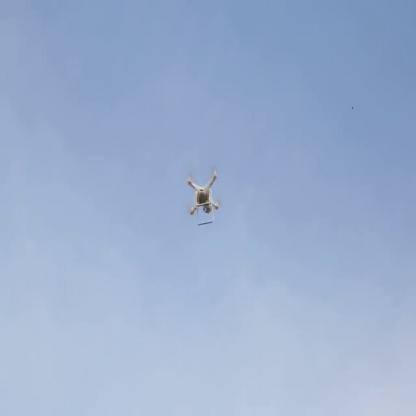drone: (183, 159, 224, 225)
